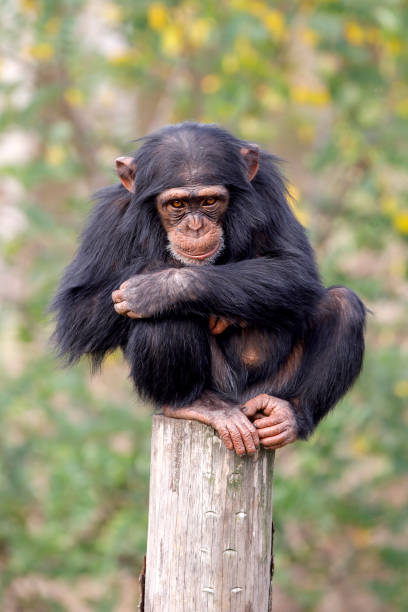chimpanzee: (91, 107, 271, 273)
